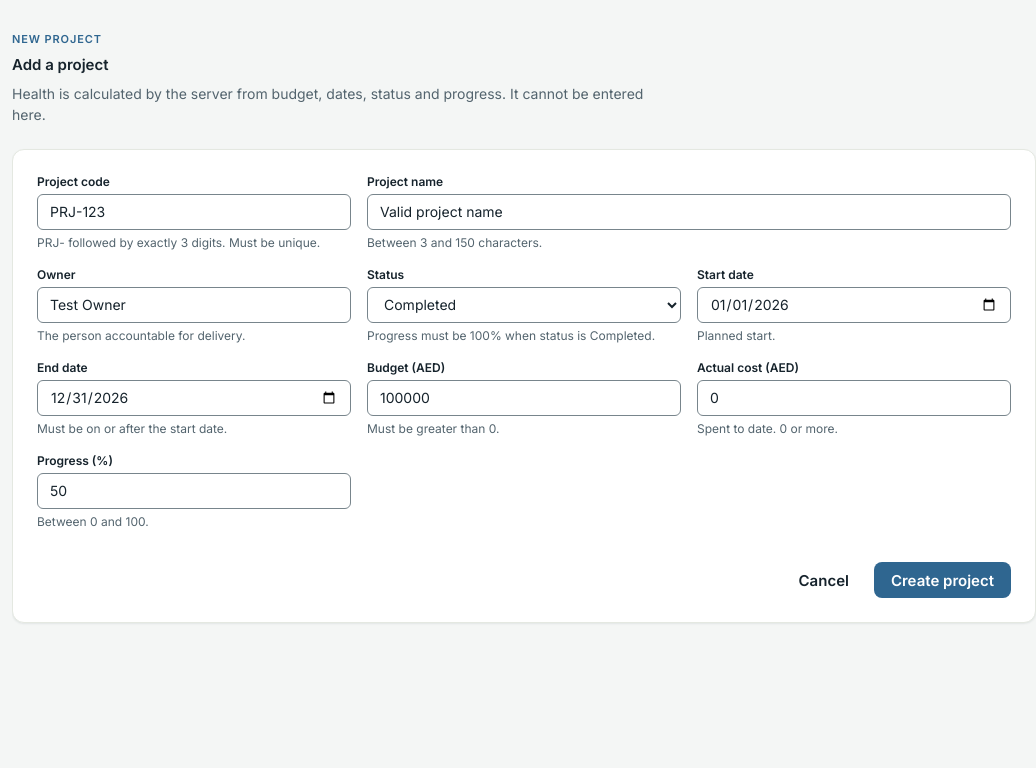
Test case: ProjectFormComponent › mirrors the server rule that Completed requires 100% progress
The image size is (1036, 768).
Click the submit button.
click(942, 580)  # box [874, 562, 1011, 598]
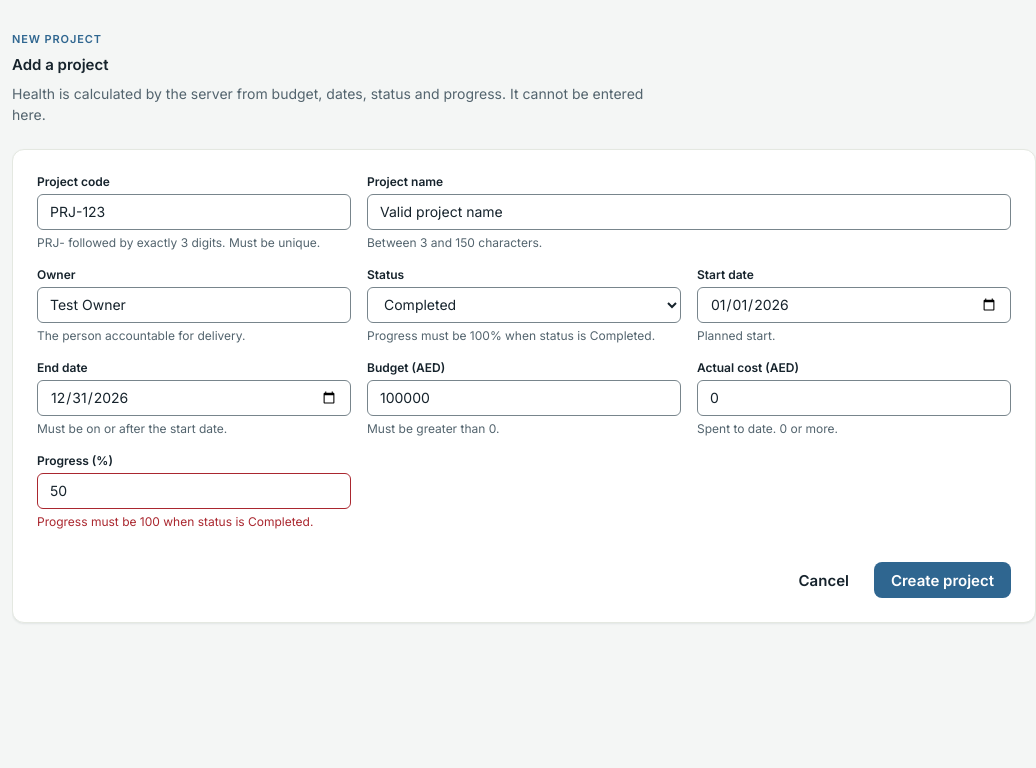
Check: the text "Progress must be 100 when status is Completed." is shown, box [37, 513, 351, 530]
